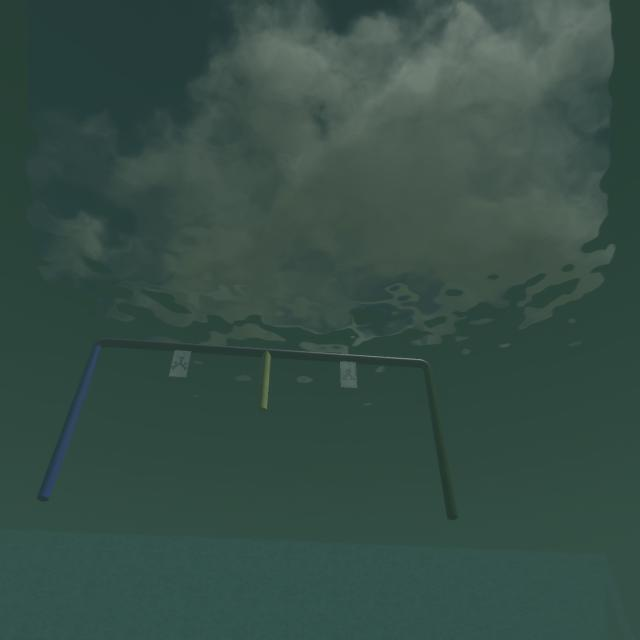abydos: (171, 356, 189, 370)
earth: (342, 368, 356, 380)
gate: (34, 336, 461, 522)
